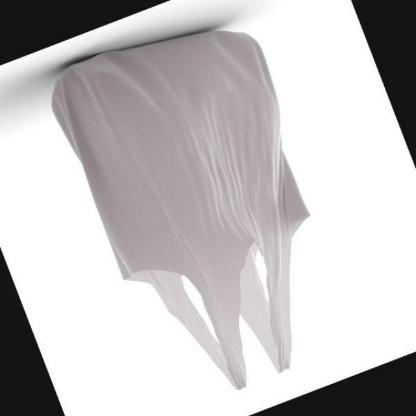Plastic Bag: (50, 30, 310, 390)
